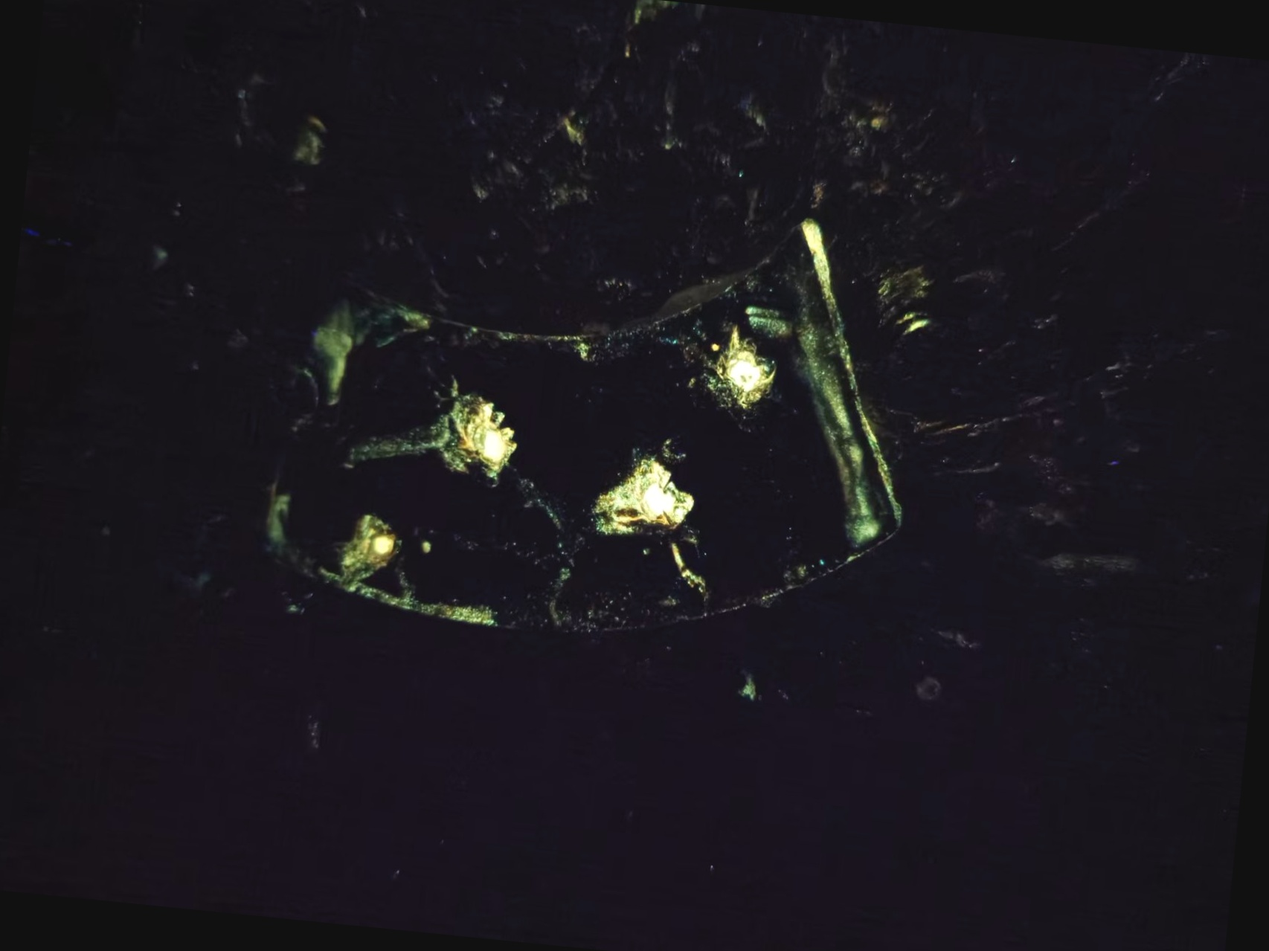Crater: (394, 358, 557, 490), (568, 446, 719, 564), (681, 302, 802, 428), (320, 498, 419, 591)
